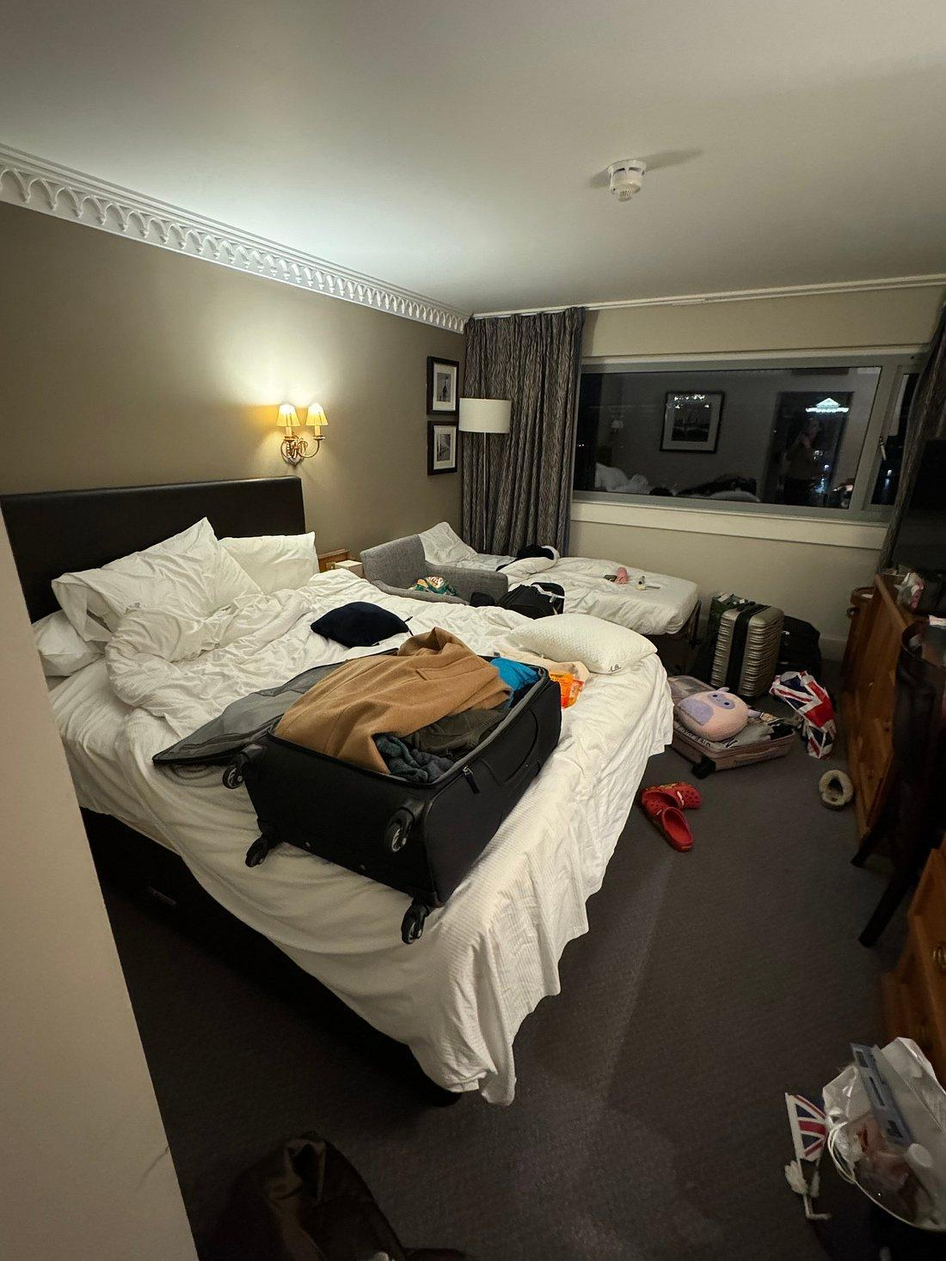Disorganized_pillow: (28, 531, 336, 683)
lamp: (461, 396, 522, 555)
mess: (645, 596, 855, 862), (768, 1039, 946, 1261)
messy_bed: (1, 479, 677, 1096), (410, 525, 699, 643)
